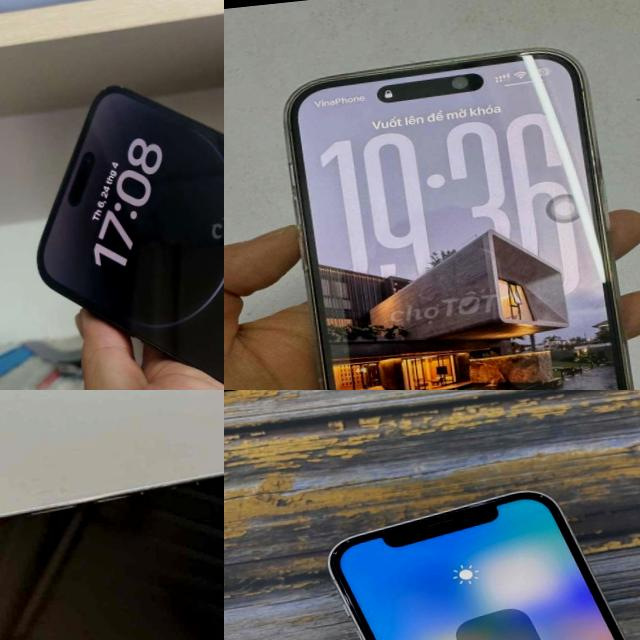scratch: (76, 68, 140, 110)
